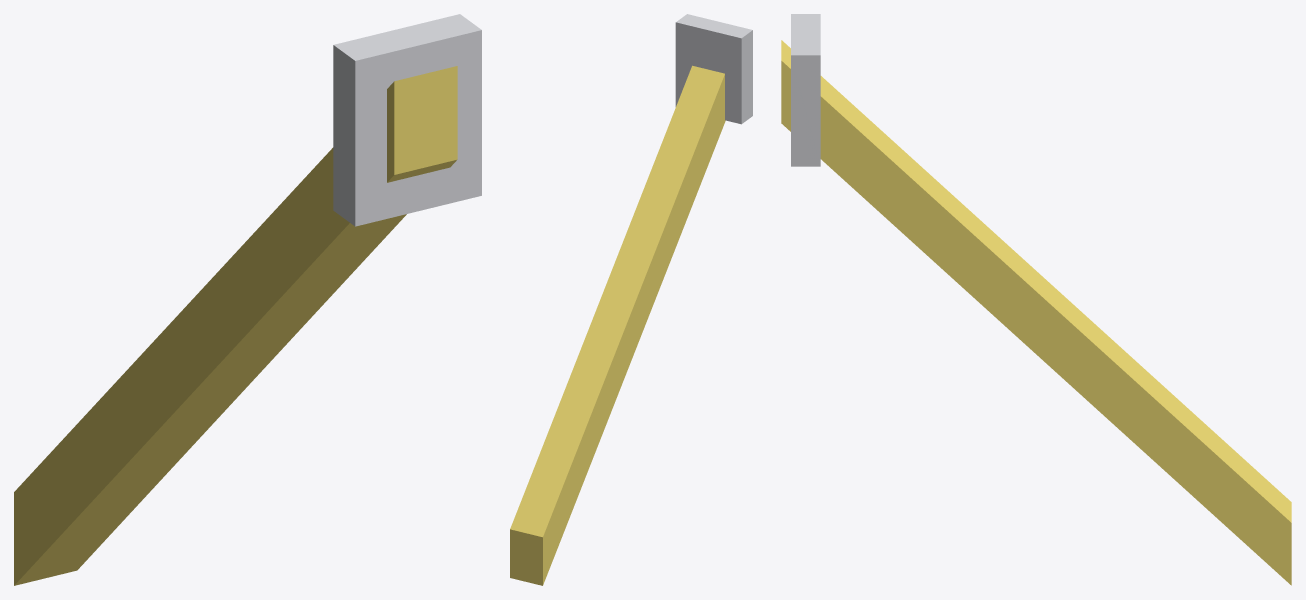
The model's file is zipline.gltf.
3 renders of one model, left to right at view 1: azimuth 30°, elevation 25°; view 2: azimuth 150°, elevation 25°; view 3: azimuth 270°, elevation 25°, orthographic. The views are drawn at different scales.
Parts seen in each view (by area): view 1: Zipline; view 2: Zipline; view 3: Zipline.
Part boxes in pixels (x1,y1,x2,y2): Zipline: (14, 14, 481, 585); Zipline: (510, 14, 752, 585); Zipline: (781, 14, 1291, 585).
Bounding box in the file's own units: 0.2 × 1.22 × 1.04.
